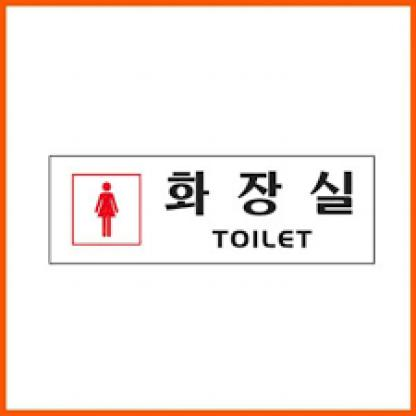toilet: (92, 176, 125, 240)
